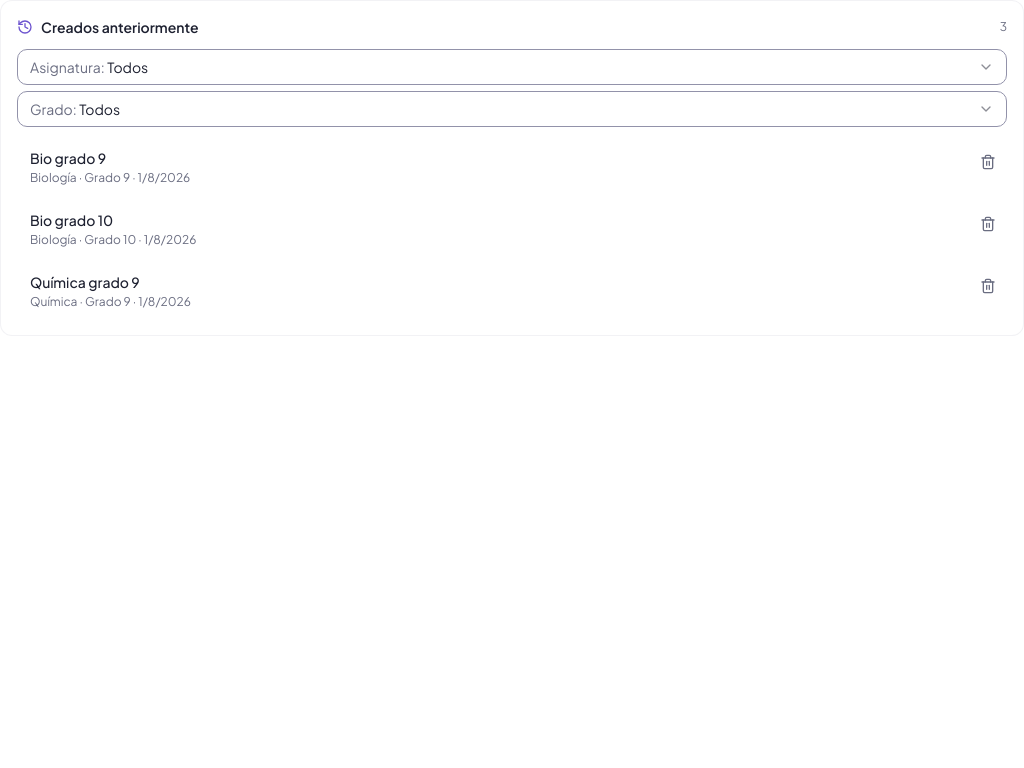
Test: Franja de historial por módulo › filtra por asignatura y por grado a la vez
Expected: the text "Bio grado 9" is shown, [30,149,106,167]
Click the button with aria-label "Filtrar por asignatura". click: x=65, y=67
box: [17,49,1007,85]
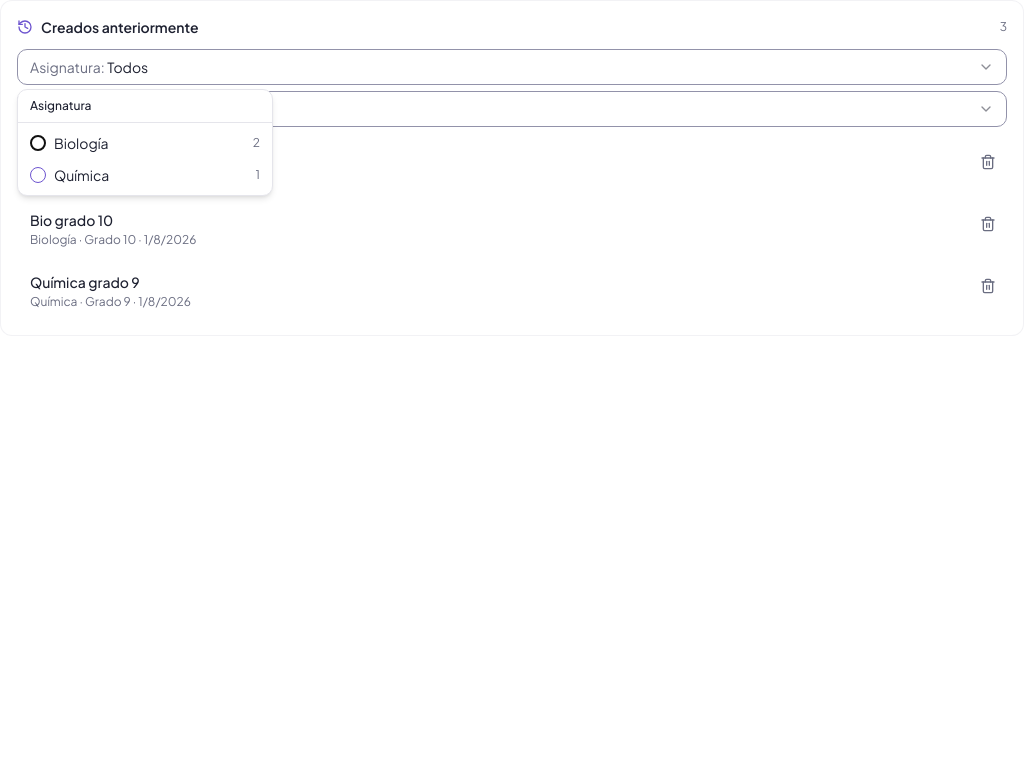
Click the 1st checkbox named "Biología". click: x=38, y=143
box: [30,135,46,151]
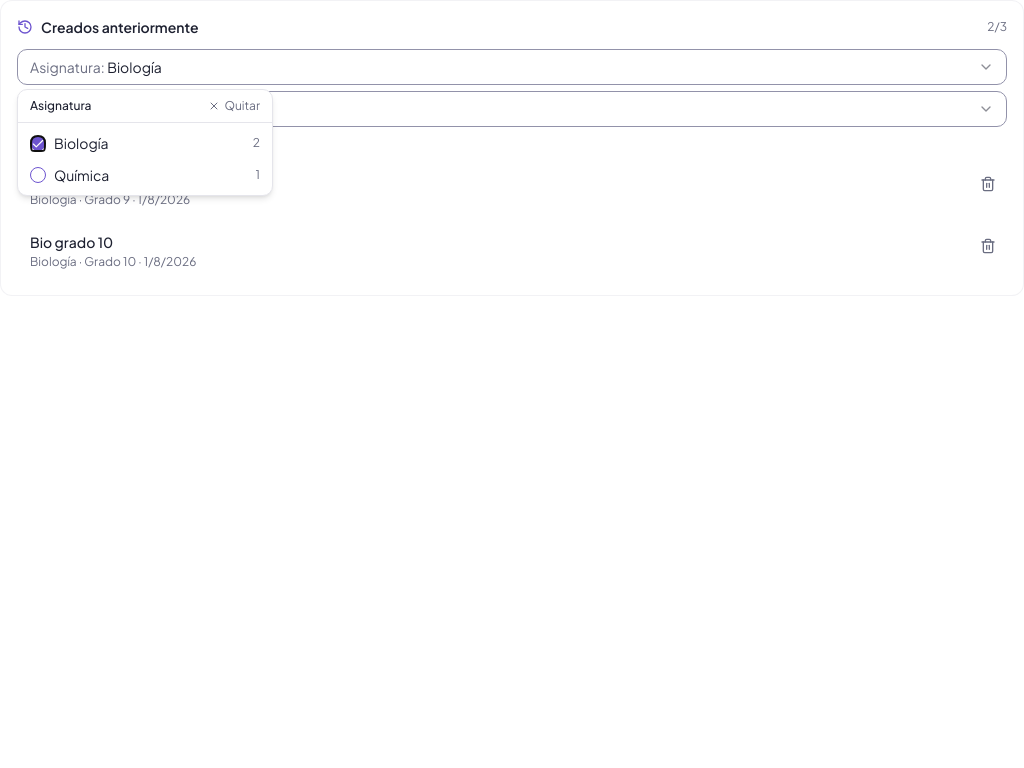
Press Escape
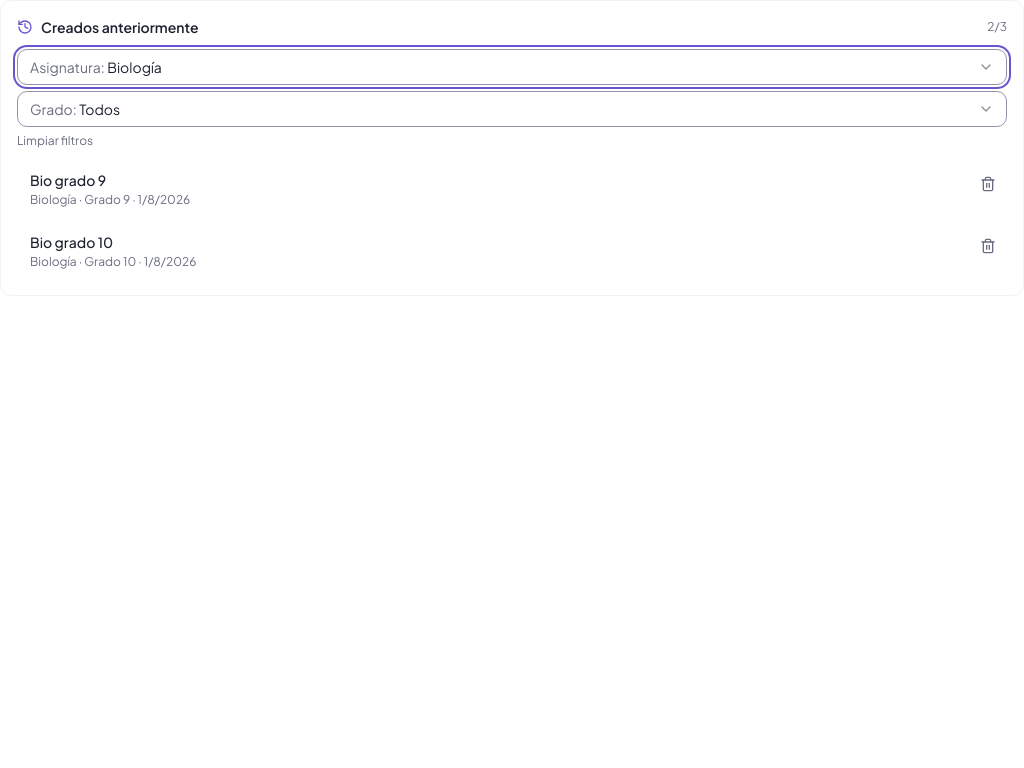
Expected: the button "Química grado 9" is not shown
Click the button with aria-label "Filtrar por grado". click: x=51, y=109
box: [17,91,1007,127]
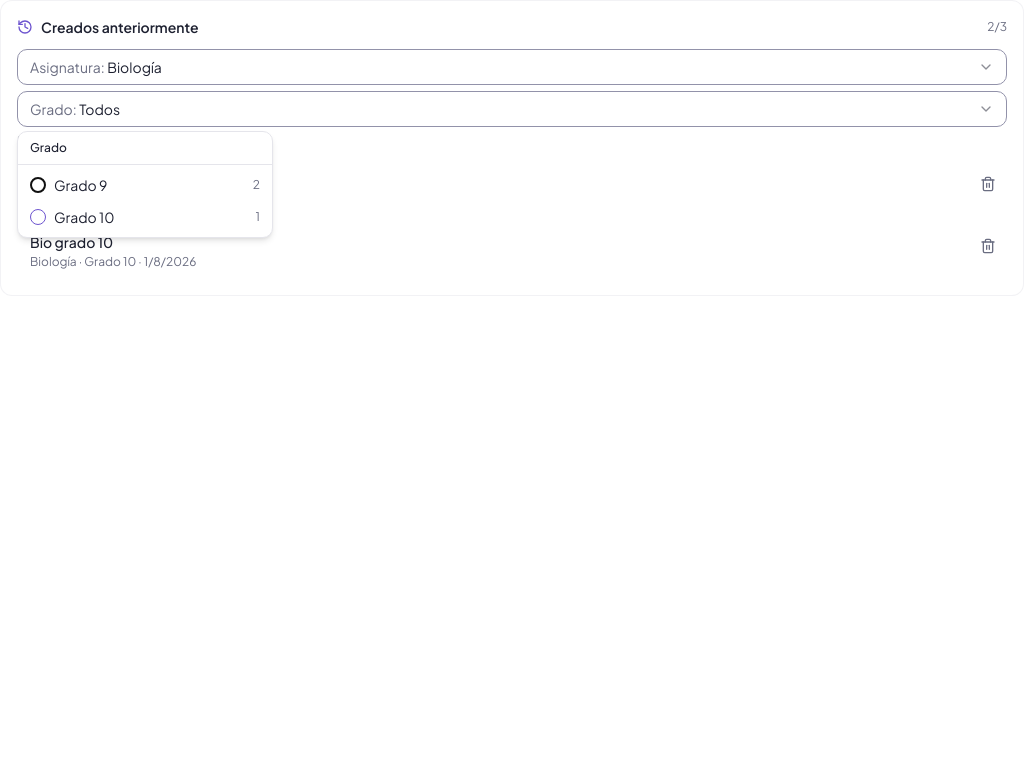
Click the 2nd checkbox named "Grado 10". click: x=38, y=217
box: [30,209,46,225]
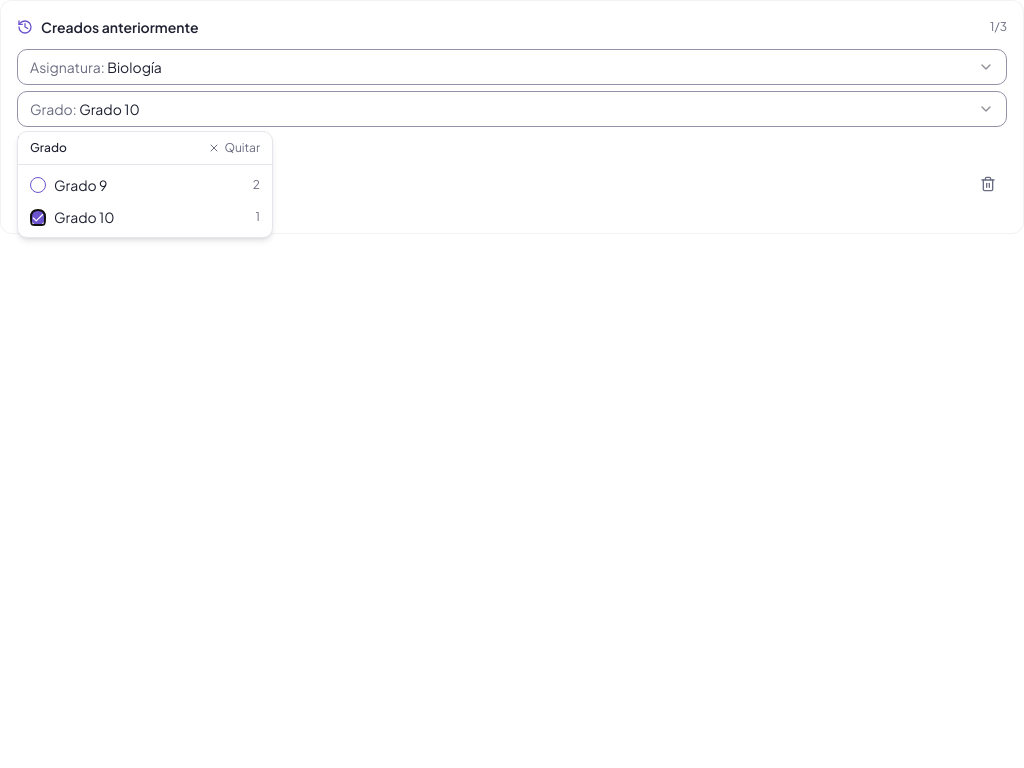
Expected: the text "Bio grado 10" is shown, [30,171,113,189]
Result: the button "Bio grado 9" is gone
